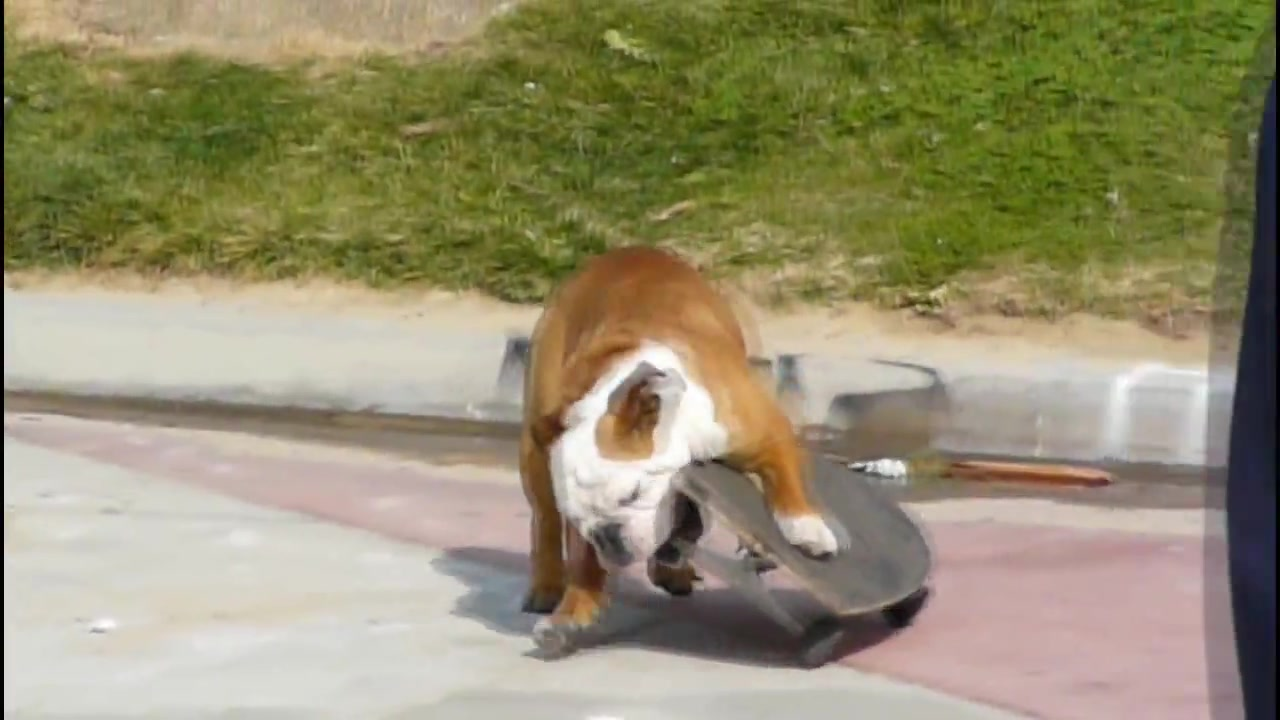dog: (521, 236, 839, 665)
